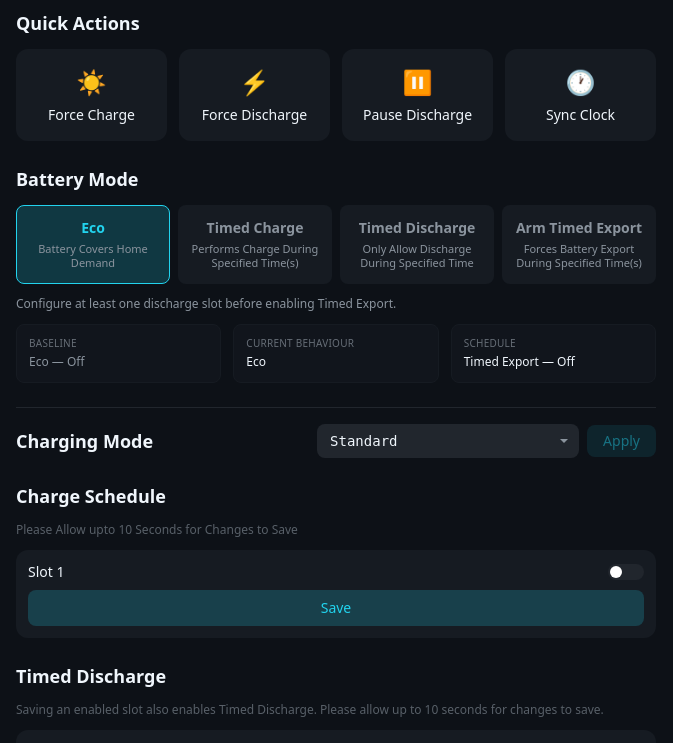
Test: <ControlPage/> — Charge Schedule armed vs not-active (issue #135) › defaults a newly enabled charging slot target to 100%
Step 1. Click the 1st button named "Slot 1 disabled" → (626, 572), box [608,564,644,580]
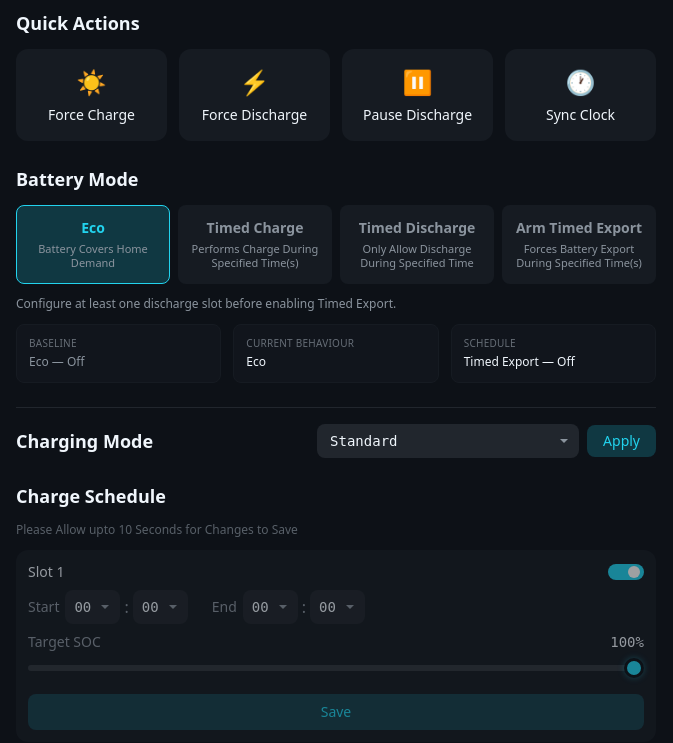
Result: the text "100%" is shown at [610,632,644,652]
